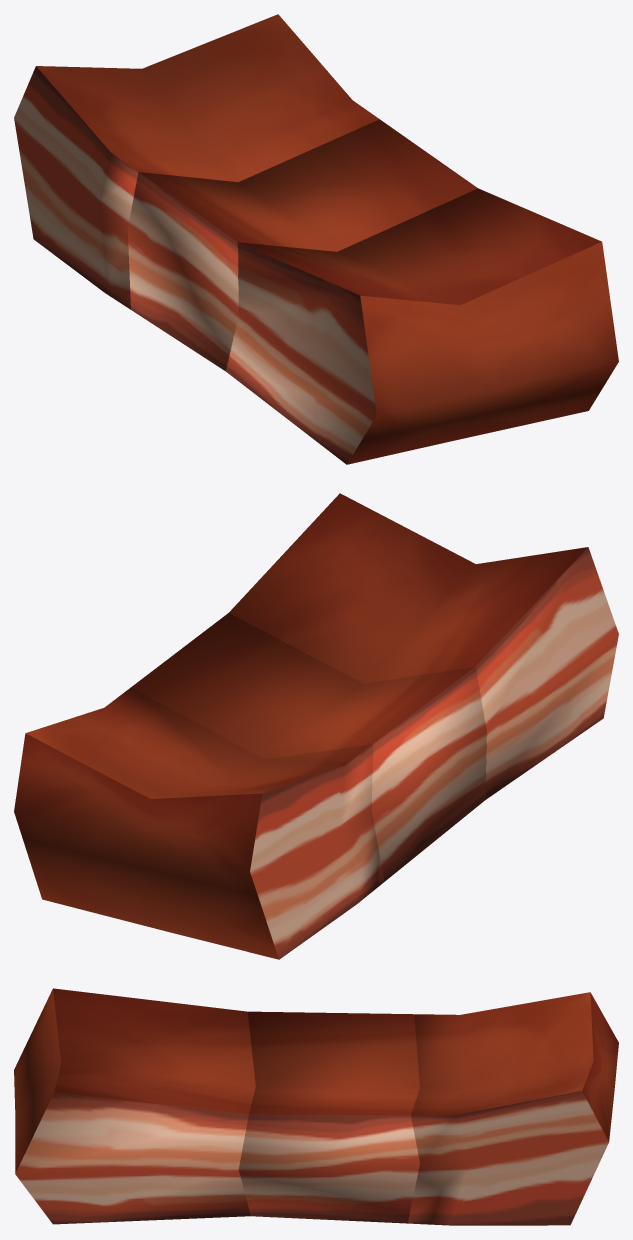
File: GGOCHIMEAT_slice.fbx
3 renders of one model, top to bottom at view 1: azimuth 30°, elevation 25°; view 2: azimuth 150°, elevation 25°; view 3: azimuth 270°, elevation 25°, orthographic. The views are drawn at different scales.
Parts seen in each view (by area): view 1: GGOCHIMEAT_01, GGOCHIMEAT_03, GGOCHIMEAT_02; view 2: GGOCHIMEAT_03, GGOCHIMEAT_01, GGOCHIMEAT_02; view 3: GGOCHIMEAT_01, GGOCHIMEAT_03, GGOCHIMEAT_02.
Boxes of the visible parts, box(x1,y1,x2,y2) form: GGOCHIMEAT_01: box(226, 188, 618, 464); GGOCHIMEAT_03: box(14, 14, 379, 309); GGOCHIMEAT_02: box(127, 119, 477, 371); GGOCHIMEAT_03: box(14, 687, 384, 959); GGOCHIMEAT_01: box(229, 493, 618, 799); GGOCHIMEAT_02: box(131, 613, 487, 881); GGOCHIMEAT_01: box(14, 988, 255, 1224); GGOCHIMEAT_03: box(408, 992, 618, 1225); GGOCHIMEAT_02: box(238, 1011, 419, 1223).
Bounding box in the file's own units: 14.05 × 9.02 × 33.96.
